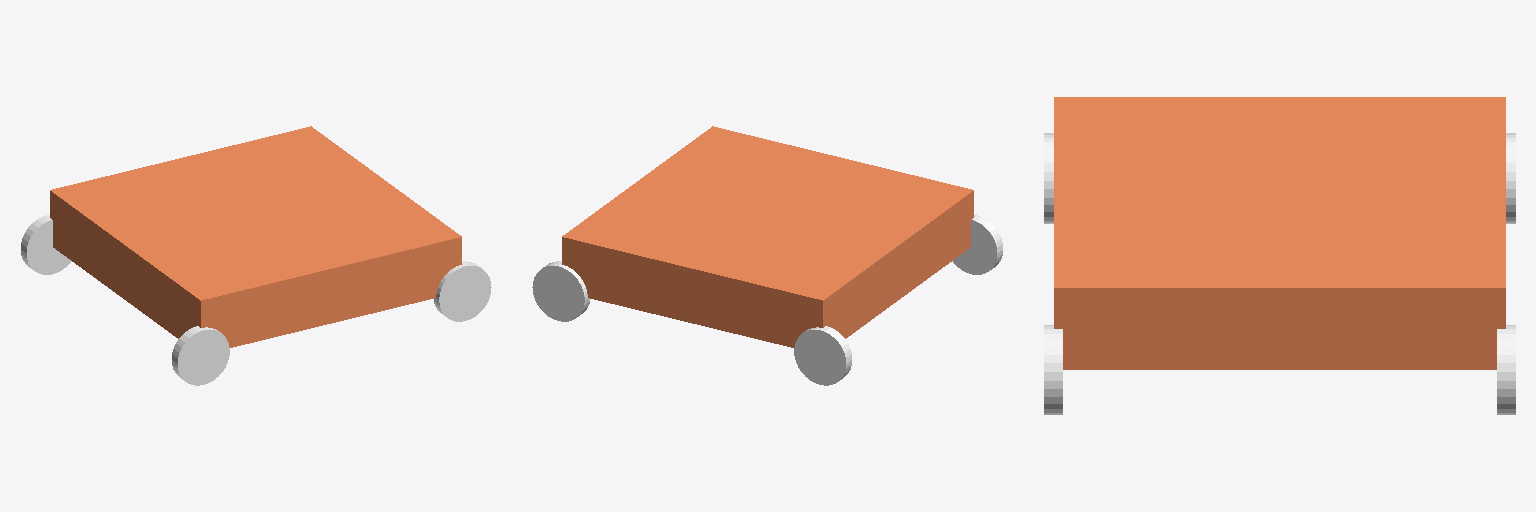
robot.urdf — omni_drive_robot:
<?xml version="1.0"?>
<robot name="omni_drive_robot">

  <!-- Robot base -->
  <link name="base_link">
    <visual>
      <geometry>
        <box size="0.5 0.5 0.1"/> <!-- Dimensions of the base: 50x50x10cm -->
      </geometry>
      <material name="atomic_tangerine">
        <color rgba="1 0.6 0.4 1"/>
      </material>
    </visual>
    <collision>
      <geometry>
        <box size="0.5 0.5 0.1"/> <!-- Collision box same as visual -->
      </geometry>
    </collision>
    <inertial>
      <mass value="5.0"/> <!-- Base mass (in kg) -->
      <inertia ixx="0.05" ixy="0.0" ixz="0.0" iyy="0.05" iyz="0.0" izz="0.05"/>
    </inertial>
  </link>

  <!-- Omni wheel 1 -->
  <link name="wheel_front_left">
    <visual>
      <geometry>
        <cylinder radius="0.05" length="0.02"/> <!-- Radius 5cm, Thickness 2cm -->
      </geometry>
      <material name="white">
        <color rgba="1 1 1 1"/>
      </material>
      <origin xyz="0 0 0" rpy="1.5708 1.5708 0"/>
    </visual>
    <collision>
      <geometry>
        <cylinder radius="0.05" length="0.02"/>
      </geometry>
      <origin xyz="0 0 0" rpy="1.5708 1.5708 0"/>
    </collision>
    <inertial>
      <mass value="0.5"/> <!-- Wheel mass (in kg) -->
      <inertia ixx="0.01" ixy="0.0" ixz="0.0" iyy="0.01" iyz="0.0" izz="0.01"/>
    </inertial>
  </link>

  <!-- Joint for wheel 1 -->
  <joint name="joint_front_left" type="continuous">
    <parent link="base_link"/>
    <child link="wheel_front_left"/>
    <origin xyz="0.25 0.25 -0.05" rpy="0 0 0"/> <!-- Front left corner of the base -->
    <axis xyz="0 1 0"/> <!-- Rotation axis -->
  </joint>

  <!-- Omni wheel 2 -->
  <link name="wheel_front_right">
    <visual>
      <geometry>
        <cylinder radius="0.05" length="0.02"/>
      </geometry>
      <material name="white">
        <color rgba="1 1 1 1"/>
      </material>
      <origin xyz="0 0 0" rpy="1.5708 1.5708 0"/>
    </visual>
    <collision>
      <geometry>
        <cylinder radius="0.05" length="0.02"/>
      </geometry>
      <origin xyz="0 0 0" rpy="1.5708 1.5708 0"/>
    </collision>
    <inertial>
      <mass value="0.5"/>
      <inertia ixx="0.01" ixy="0.0" ixz="0.0" iyy="0.01" iyz="0.0" izz="0.01"/>
    </inertial>
  </link>

  <!-- Joint for wheel 2 -->
  <joint name="joint_front_right" type="continuous">
    <parent link="base_link"/>
    <child link="wheel_front_right"/>
    <origin xyz="0.25 -0.25 -0.05" rpy="0 0 0"/> <!-- Front right corner of the base -->
    <axis xyz="0 1 0"/>
  </joint>

  <!-- Omni wheel 3 -->
  <link name="wheel_back_left">
    <visual>
      <geometry>
        <cylinder radius="0.05" length="0.02"/>
      </geometry>
      <material name="white">
        <color rgba="1 1 1 1"/>
      </material>
      <origin xyz="0 0 0" rpy="1.5708 1.5708 0"/>
    </visual>
    <collision>
      <geometry>
        <cylinder radius="0.05" length="0.02"/>
      </geometry>
      <origin xyz="0 0 0" rpy="1.5708 1.5708 0"/>
    </collision>
    <inertial>
      <mass value="0.5"/>
      <inertia ixx="0.01" ixy="0.0" ixz="0.0" iyy="0.01" iyz="0.0" izz="0.01"/>
    </inertial>
  </link>

  <!-- Joint for wheel 3 -->
  <joint name="joint_back_left" type="continuous">
    <parent link="base_link"/>
    <child link="wheel_back_left"/>
    <origin xyz="-0.25 0.25 -0.05" rpy="0 0 0"/> <!-- Back left corner of the base -->
    <axis xyz="0 1 0"/>
  </joint>

  <!-- Omni wheel 4 -->
  <link name="wheel_back_right">
    <visual>
      <geometry>
        <cylinder radius="0.05" length="0.02"/>
      </geometry>
      <material name="white">
        <color rgba="1 1 1 1"/>
      </material>
      <origin xyz="0 0 0" rpy="1.5708 1.5708 0"/>
    </visual>
    <collision>
      <geometry>
        <cylinder radius="0.05" length="0.02"/>
      </geometry>
      <origin xyz="0 0 0" rpy="1.5708 1.5708 0"/>
    </collision>
    <inertial>
      <mass value="0.5"/>
      <inertia ixx="0.01" ixy="0.0" ixz="0.0" iyy="0.01" iyz="0.0" izz="0.01"/>
    </inertial>
  </link>

  <!-- Joint for wheel 4 -->
  <joint name="joint_back_right" type="continuous">
    <parent link="base_link"/>
    <child link="wheel_back_right"/>
    <origin xyz="-0.25 -0.25 -0.05" rpy="0 0 0"/> <!-- Back right corner of the base -->
    <axis xyz="0 1 0"/>
  </joint>

</robot>

--- Render facts (derived) ---
Views: 3 orthographic renders of the robot side by side, from view 1: azimuth 30°, elevation 25°; view 2: azimuth 150°, elevation 25°; view 3: azimuth 270°, elevation 25°.
Robot: omni_drive_robot — 5 links, 4 joints (4 continuous); root link base_link; default pose: all joints at 0.
Links seen in each view (by area): view 1: base_link, wheel_back_right, wheel_front_right, wheel_back_left; view 2: base_link, wheel_back_left, wheel_front_left, wheel_back_right; view 3: base_link, wheel_front_left, wheel_front_right, wheel_back_left, wheel_back_right.
Link boxes in pixels (<box>): base_link: <box>50,126,461,347</box>; wheel_back_right: <box>172,326,229,385</box>; wheel_front_right: <box>434,261,491,321</box>; wheel_back_left: <box>21,215,70,274</box>; base_link: <box>562,126,973,347</box>; wheel_back_left: <box>794,326,851,385</box>; wheel_front_left: <box>532,261,589,321</box>; wheel_back_right: <box>953,215,1002,274</box>; base_link: <box>1054,97,1505,369</box>; wheel_front_left: <box>1497,325,1515,414</box>; wheel_front_right: <box>1044,325,1062,414</box>; wheel_back_left: <box>1506,133,1515,223</box>; wheel_back_right: <box>1044,133,1053,223</box>.
Bounding box of the posed robot: 0.6 × 0.52 × 0.15 m (x, y, z).
Geometry: primitives only (box / cylinder / sphere), no mesh files.